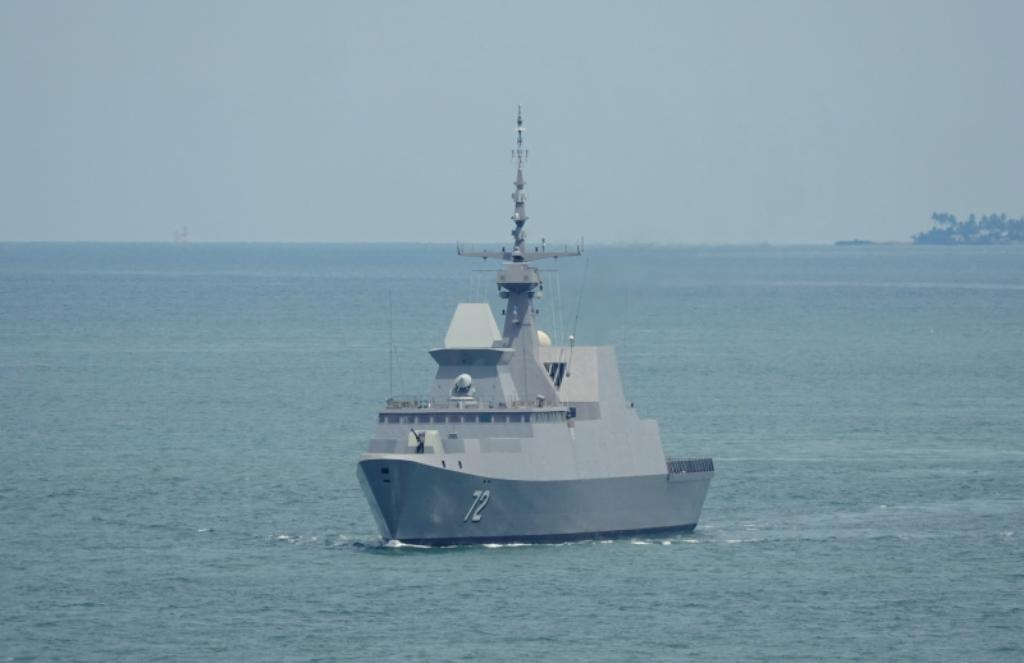Warship: (348, 105, 716, 551)
